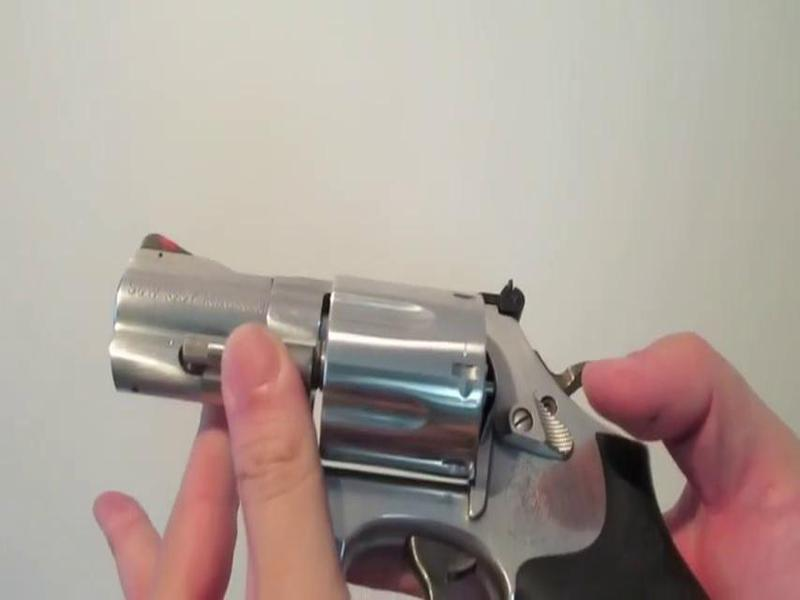Revolver: (107, 192, 712, 600)
